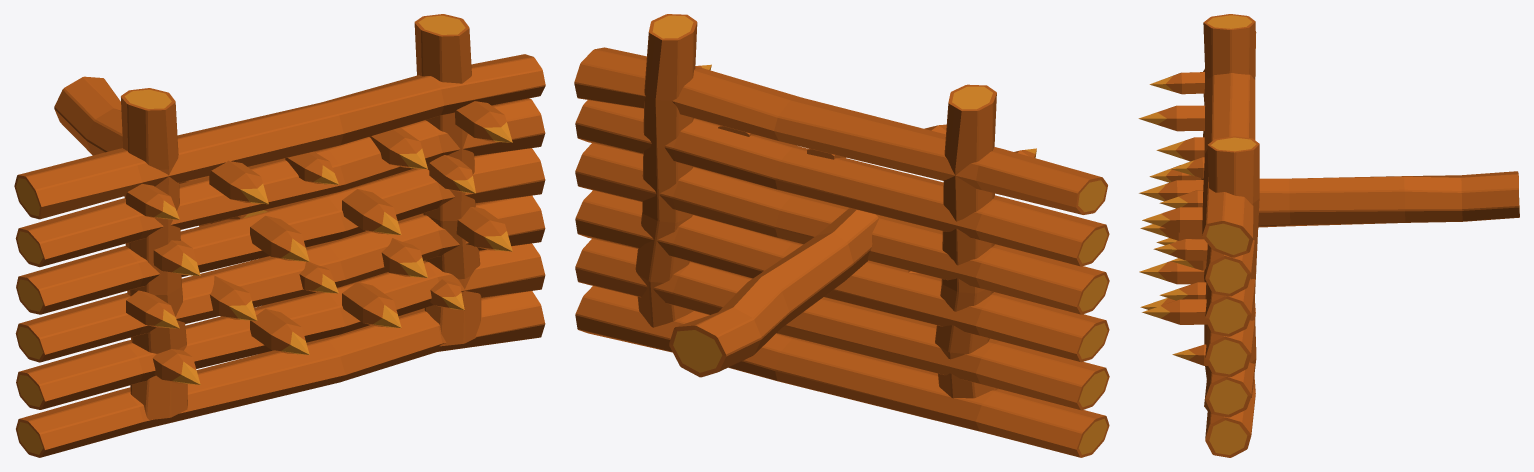
Rendered from obstacle spikewall.fbx.
The picture shows the model from 3 angles, left to right: view 1: azimuth 30°, elevation 25°; view 2: azimuth 150°, elevation 25°; view 3: azimuth 270°, elevation 25°; orthographic projection. The views are drawn at different scales.
Parts seen in each view (by area): view 1: spikes.003; view 2: spikes.003; view 3: spikes.003.
Part boxes in pixels (x1,y1,x2,y2): spikes.003: (14, 14, 545, 457); spikes.003: (574, 14, 1109, 457); spikes.003: (1138, 14, 1519, 457).
Bounding box in the file's own units: 632 × 393 × 489.
